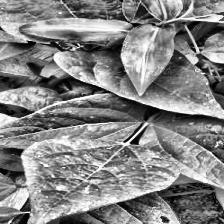Bean Rust: (0, 137, 192, 224), (57, 49, 224, 120), (4, 93, 150, 148), (157, 103, 224, 211)
